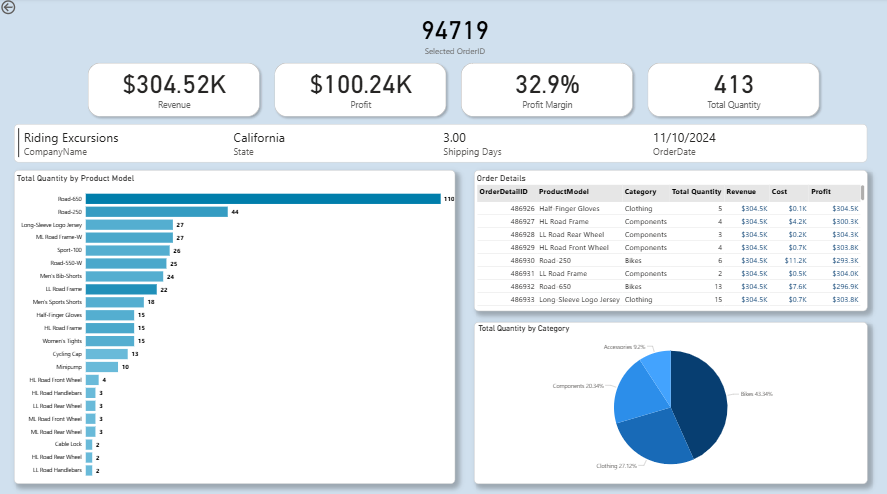

The dashboard page shown, as its layout file describes it:
{"tool":"powerbi","page":{"name":"Order","canvas":[1920,1080],"ordinal":3},"visuals":[{"type":"actionButton","box":[0,0,100,40],"z":0},{"type":"cardVisual","fields":{"Data":["FactSales.#Total Revenue","FactSales.#Profit","FactSales.#Profit Margin","Sum(FactSales.Quantity)"]},"box":[175,122.5,1617.5,150],"z":1000},{"type":"multiRowCard","title":"Customer Details","fields":{"Values":["DimCustomer.CompanyName","DimCustomer.State","FactSales.#Average Shipping Days","FactSales.OrderDate"]},"box":[32.5,272.5,1842.5,82.5],"z":2000},{"type":"card","fields":{"Values":["FactSales.Selected OrderID"]},"box":[50,0,1870,150],"z":3000},{"type":"tableEx","title":"Order Details","fields":{"Values":["FactSales.SalesOrderDetailID","DimProduct.ProductModel","DimProduct.Category","Sum(FactSales.Quantity)","FactSales.#Total Revenue","FactSales.#Total Cost","FactSales.#Profit"]},"box":[1025,372.5,850,305],"z":4000},{"type":"pieChart","title":"Total Quantity by Category","fields":{"Category":["DimProduct.Category"],"Y":["Sum(FactSales.Quantity)"]},"box":[1025,700,850,350],"z":5000},{"type":"clusteredBarChart","title":"Total Quantity by Product Model","fields":{"Category":["DimProduct.ProductModel"],"Y":["Sum(FactSales.Quantity)"]},"box":[32.5,372.5,952.5,677.5],"z":6000}]}

Visuals, with their boxes in screenshot pixels (x1, y1, x2, y2), scaled from the page's 1920x1080 canvas onto the 887x494 screenshot:
actionButton: {"x1": 0, "y1": 0, "x2": 46, "y2": 18}
cardVisual - FactSales.#Total Revenue x FactSales.#Profit: {"x1": 81, "y1": 56, "x2": 828, "y2": 125}
"Customer Details" multiRowCard: {"x1": 15, "y1": 125, "x2": 866, "y2": 162}
card - FactSales.Selected OrderID: {"x1": 23, "y1": 0, "x2": 886, "y2": 69}
"Order Details" tableEx: {"x1": 474, "y1": 170, "x2": 866, "y2": 310}
"Total Quantity by Category" pieChart: {"x1": 474, "y1": 320, "x2": 866, "y2": 480}
"Total Quantity by Product Model" clusteredBarChart: {"x1": 15, "y1": 170, "x2": 455, "y2": 480}
